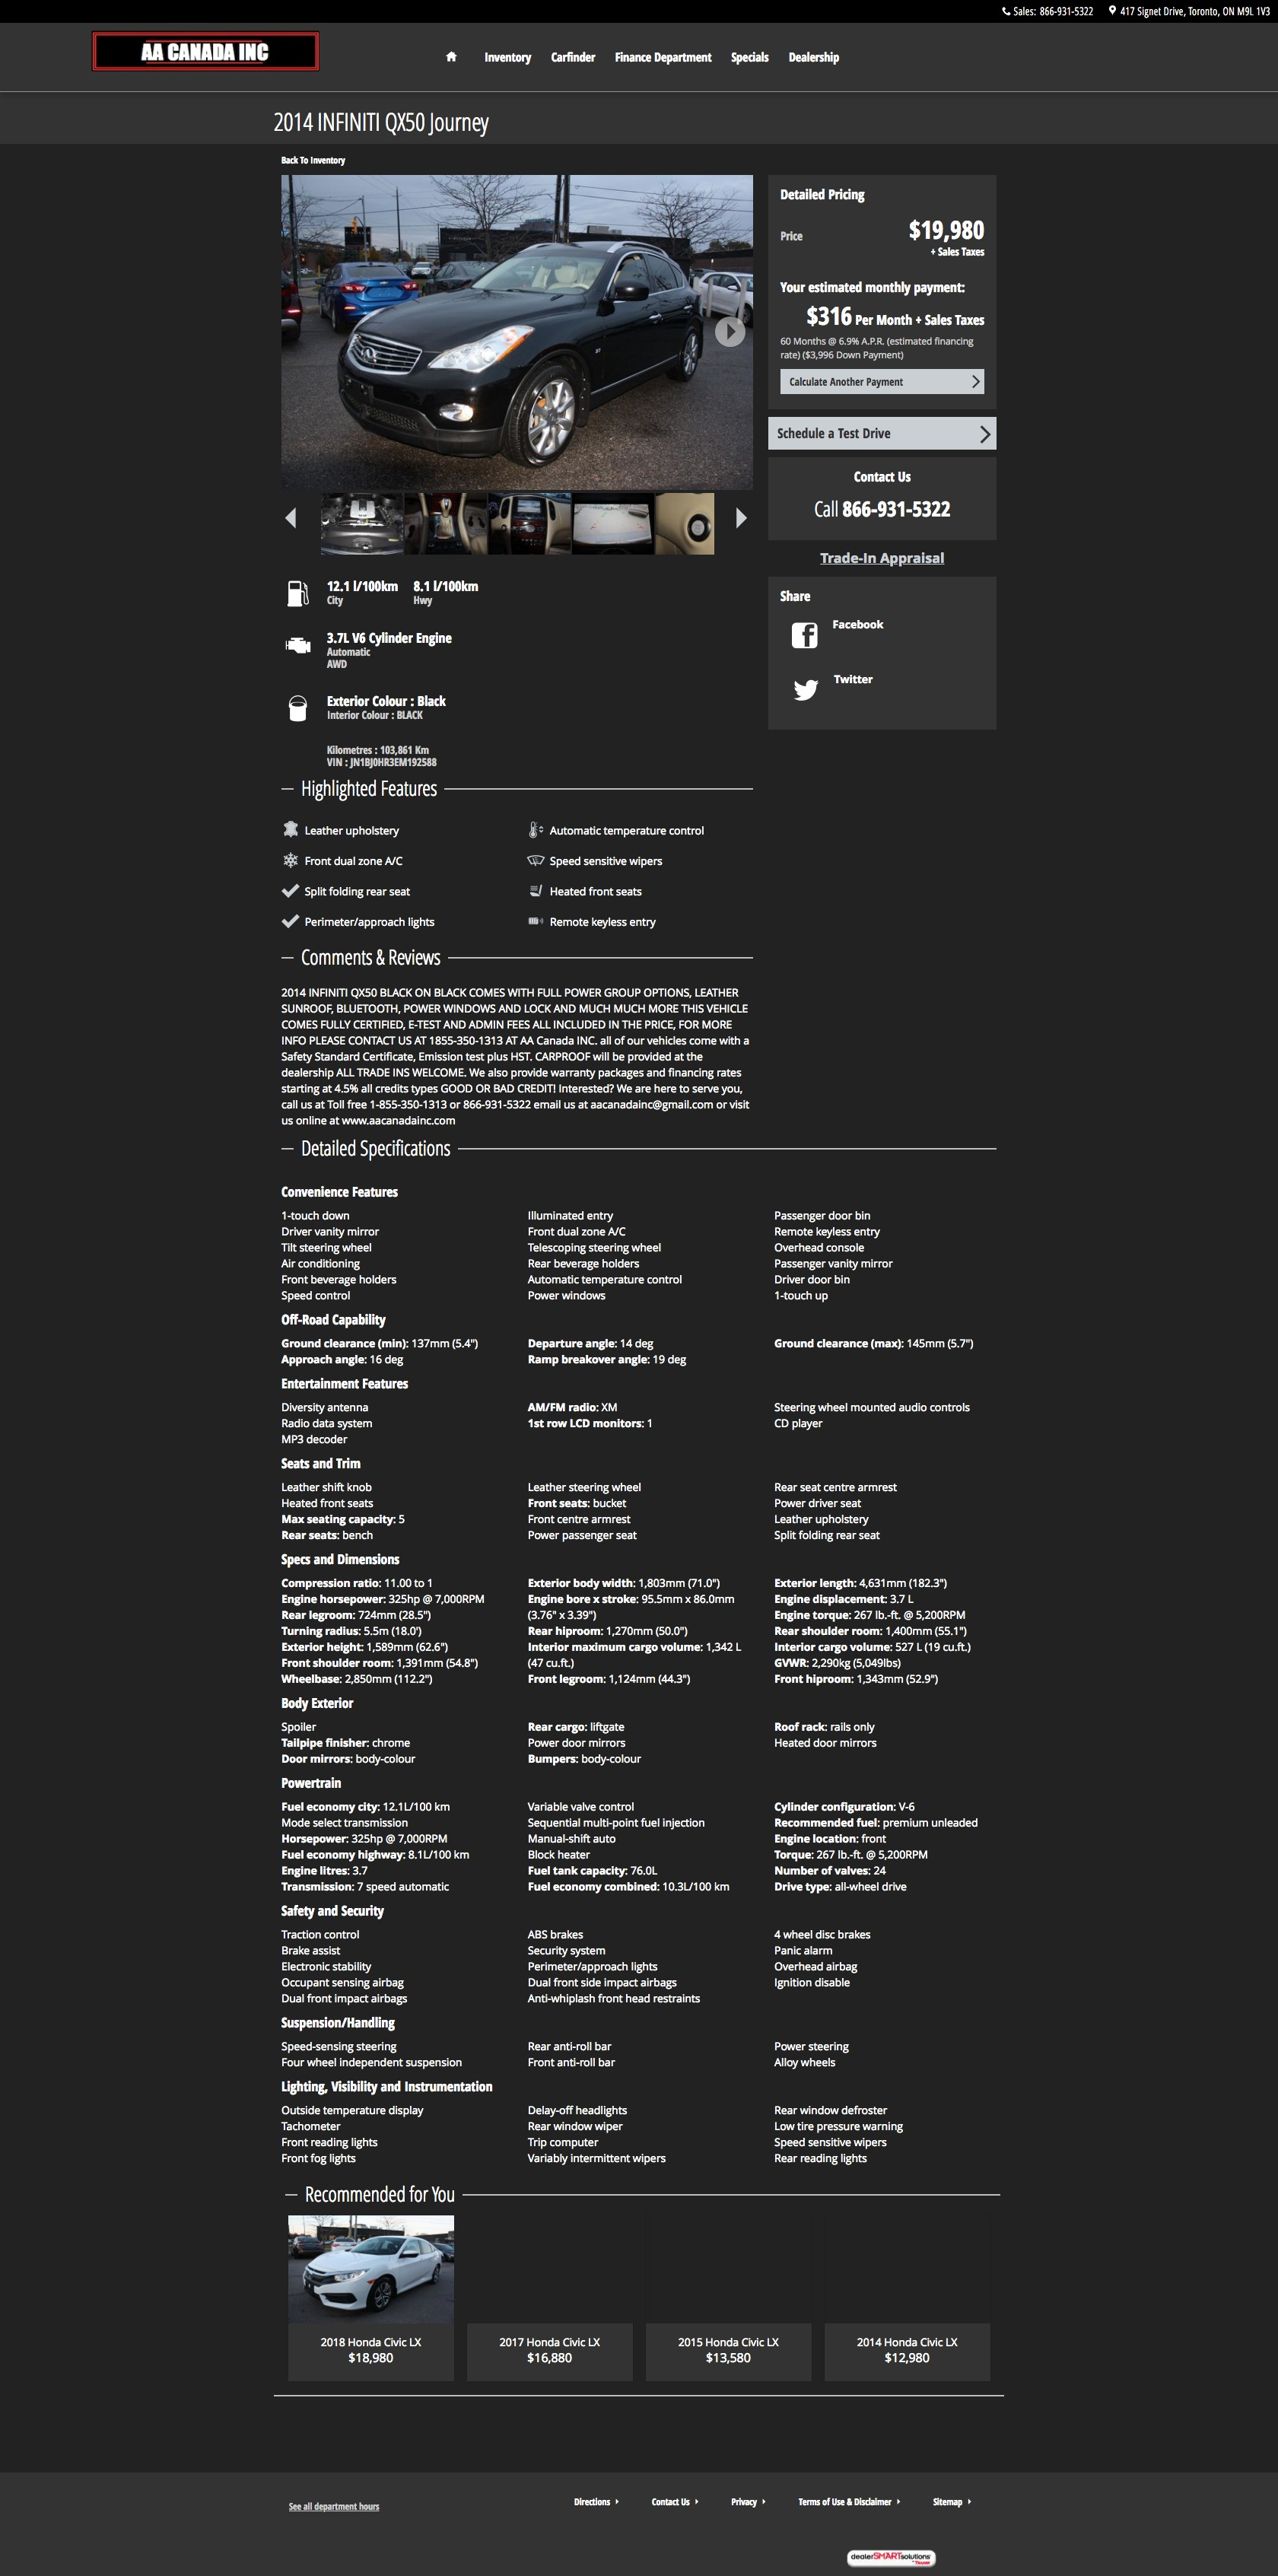car: (731, 504, 752, 531)
